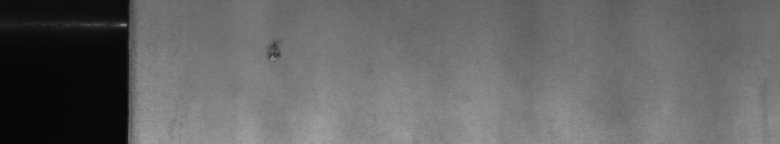fi: (264, 36, 284, 64)
